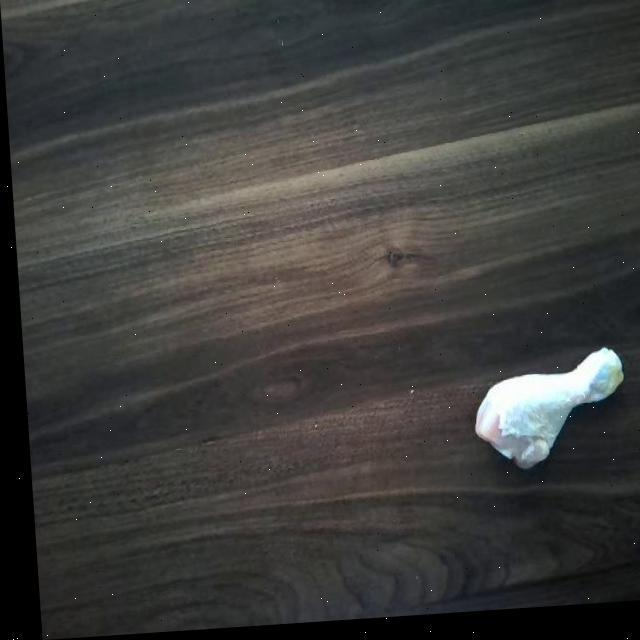leg: (462, 350, 629, 478)
